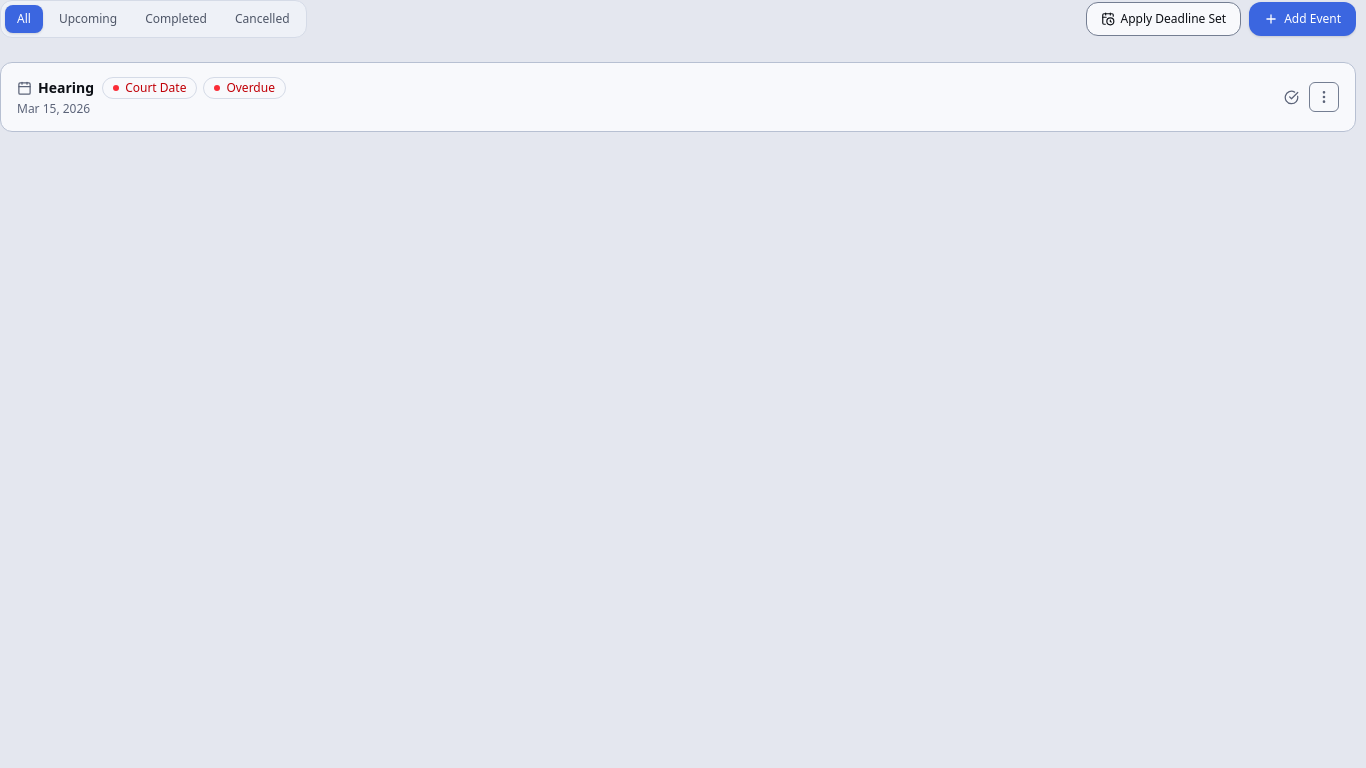
Test: editing an event › opens the edit form on the day the firm entered, not on today
Expected: the text "Hearing" is shown, [38,78,94,98]
Click the button named "More actions": (1324,97) [1309,82,1339,112]
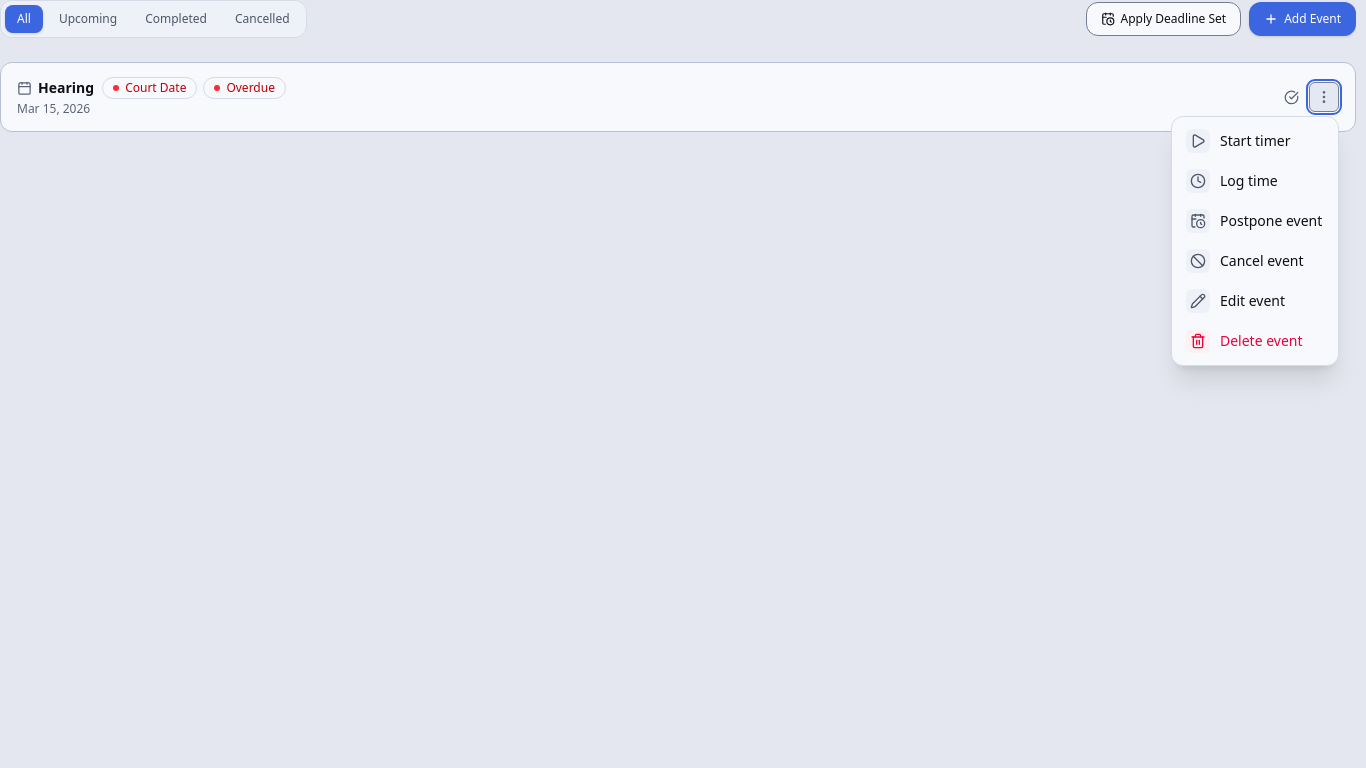
Click the menu item "Edit event": (1255,301) [1176,281,1334,321]
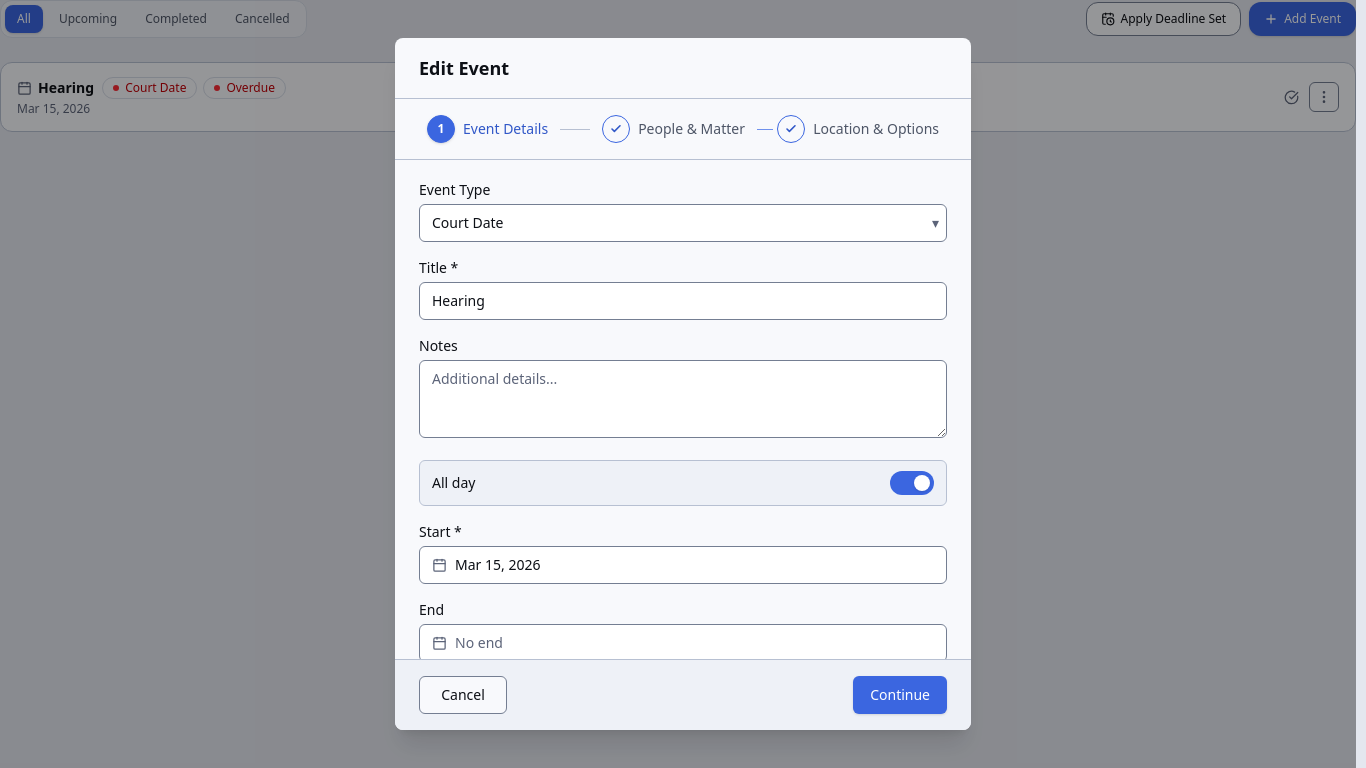
Now the button "Mar 15, 2026" is shown, box [419,546,947,584]
